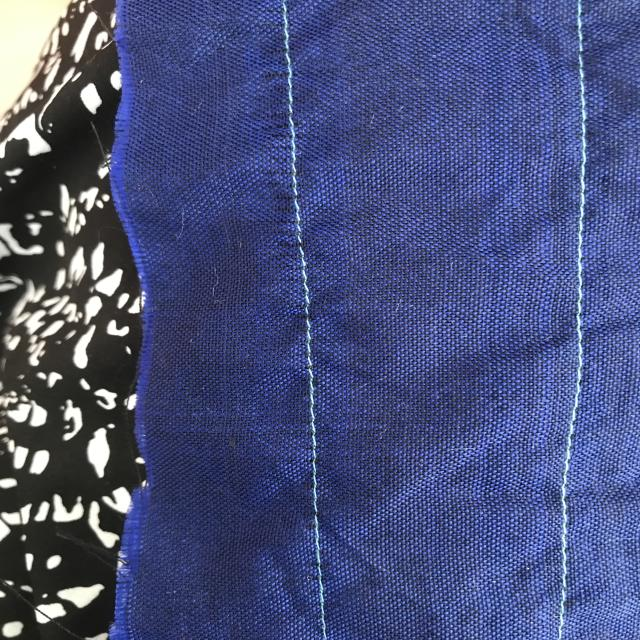good: (281, 132, 334, 325), (288, 406, 337, 596), (568, 37, 602, 204)
